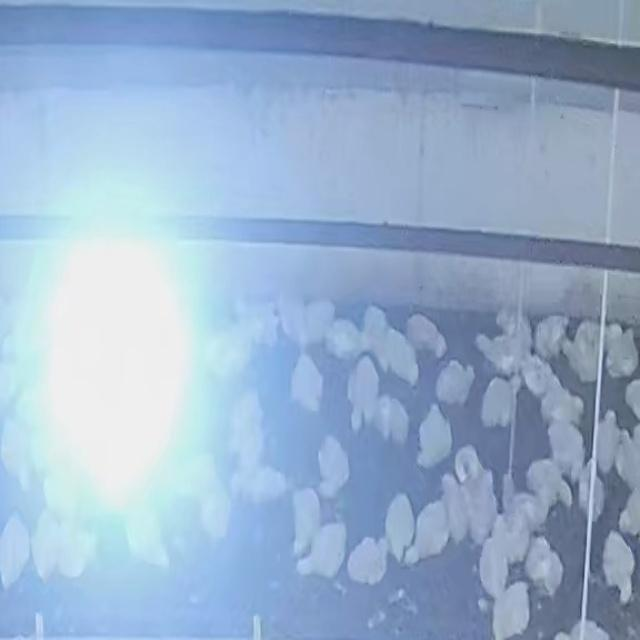chicken: (526, 361, 584, 428), (461, 464, 498, 541), (478, 524, 516, 597), (302, 521, 349, 580), (415, 400, 454, 471), (601, 528, 637, 604), (558, 320, 600, 384), (525, 458, 571, 514), (544, 416, 586, 476), (524, 536, 564, 599), (227, 393, 263, 462), (474, 328, 524, 377), (0, 511, 32, 586), (413, 498, 451, 561), (347, 355, 379, 429), (316, 433, 352, 498), (490, 582, 530, 640), (380, 326, 420, 384), (492, 510, 529, 570), (290, 352, 324, 416), (384, 490, 415, 560), (347, 535, 388, 585), (359, 306, 393, 366), (239, 464, 290, 504), (408, 314, 449, 362), (605, 324, 640, 380), (291, 487, 321, 552), (479, 374, 514, 428), (198, 487, 231, 542), (436, 359, 475, 405), (497, 309, 534, 356), (614, 426, 640, 492), (378, 396, 411, 446), (534, 314, 568, 362), (440, 472, 464, 540), (595, 410, 621, 472), (302, 298, 335, 346), (279, 295, 310, 345), (577, 464, 604, 516), (520, 357, 553, 399), (328, 318, 363, 357), (454, 444, 484, 483), (618, 485, 640, 538), (624, 378, 640, 420)
